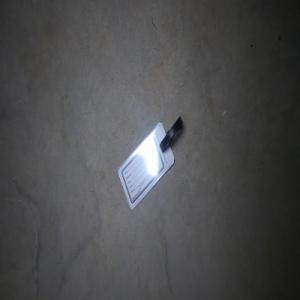LuggageTag: (115, 113, 184, 212)
